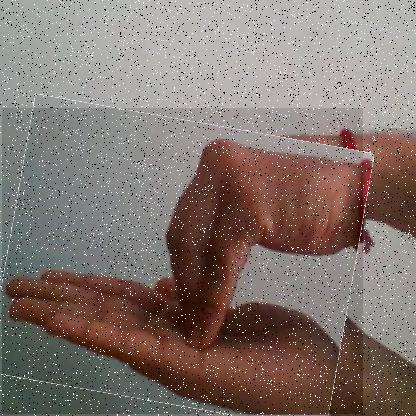Z: (1, 108, 363, 415)
